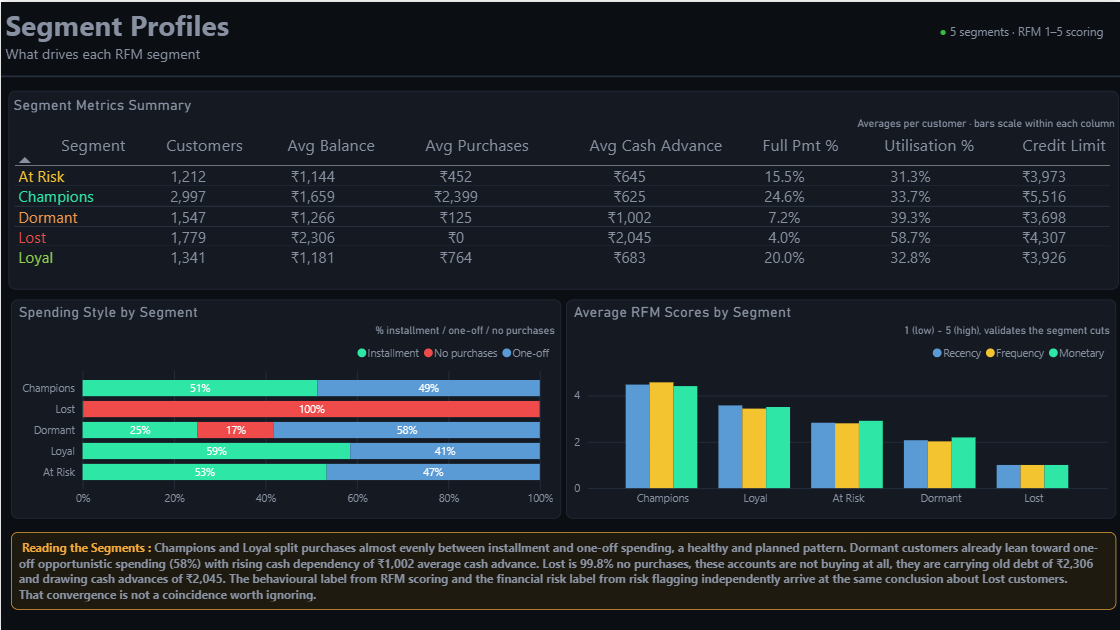

The page's visual inventory and layout, read from the dashboard file:
{"tool":"powerbi","page":{"name":"03 Segments","canvas":[1280,720],"ordinal":2},"visuals":[{"type":"textbox","box":[0,0,1280,78.6],"z":0},{"type":"hundredPercentStackedBarChart","title":"Spending Style by Segment","fields":{"Category":["credit_card_final.segment"],"Y":["CountNonNull(credit_card_final.cust_id)"],"Series":["credit_card_final.purchase_type"]},"box":[11.4,340,628.6,250],"z":1000},{"type":"clusteredColumnChart","title":"Average RFM Scores by Segment","fields":{"Category":["credit_card_final.segment"],"Y":["Avg(credit_card_final.R_score)","Avg(credit_card_final.F_score)","Avg(credit_card_final.M_score)"]},"box":[645.7,340,628.6,250],"z":2000},{"type":"tableEx","title":"Segment Metrics Summary","fields":{"Values":["credit_card_final.segment","credit_card_final.cust_id","Avg(credit_card_final.balance)","Avg(credit_card_final.purchases)","Avg(credit_card_final.cash_advance)","Avg(credit_card_final.prc_full_payment)","Avg(credit_card_final.utilisation_rate)","Avg(credit_card_final.credit_limit)"]},"box":[8.6,101.4,1268.6,227.1],"z":3000},{"type":"textbox","box":[11.4,605.7,1262.9,88.6],"z":4000},{"type":"shape","box":[0,78.6,1280,12.9],"z":5000}]}

Visuals, with their boxes in screenshot pixels (x1, y1, x2, y2), scaled from the page's 1280x720 canvas onto the 1120x630 screenshot:
textbox: crop(0, 0, 1119, 69)
"Spending Style by Segment" hundredPercentStackedBarChart: crop(10, 298, 560, 516)
"Average RFM Scores by Segment" clusteredColumnChart: crop(565, 298, 1115, 516)
"Segment Metrics Summary" tableEx: crop(8, 89, 1118, 287)
textbox: crop(10, 530, 1115, 608)
shape: crop(0, 69, 1119, 80)
